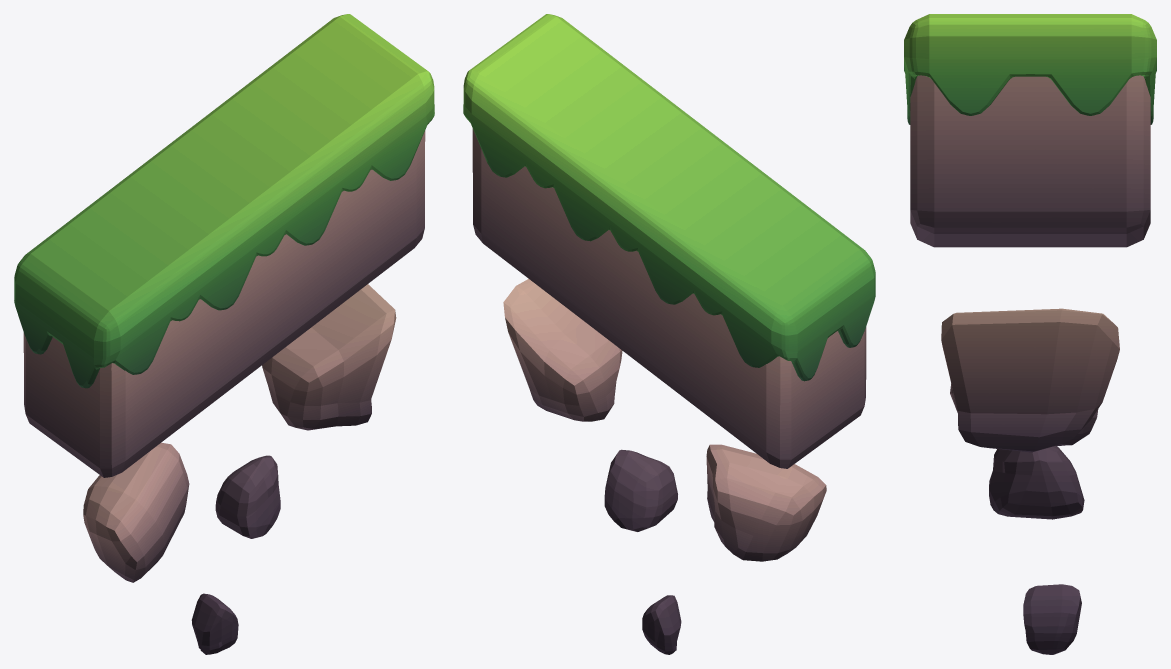
Rendered from angle.fbx.
The picture shows the model from 3 angles, left to right: view 1: azimuth 30°, elevation 25°; view 2: azimuth 150°, elevation 25°; view 3: azimuth 270°, elevation 25°; orthographic projection. The views are drawn at different scales.
Parts seen in each view (by area): view 1: angle; view 2: angle; view 3: angle.
Part boxes in pixels (bbox=[...]): angle: bbox=[14, 14, 434, 654]; angle: bbox=[463, 14, 875, 654]; angle: bbox=[904, 14, 1156, 654].
Size of the model in its own units: 4.2 by 6.81 by 2.1.
